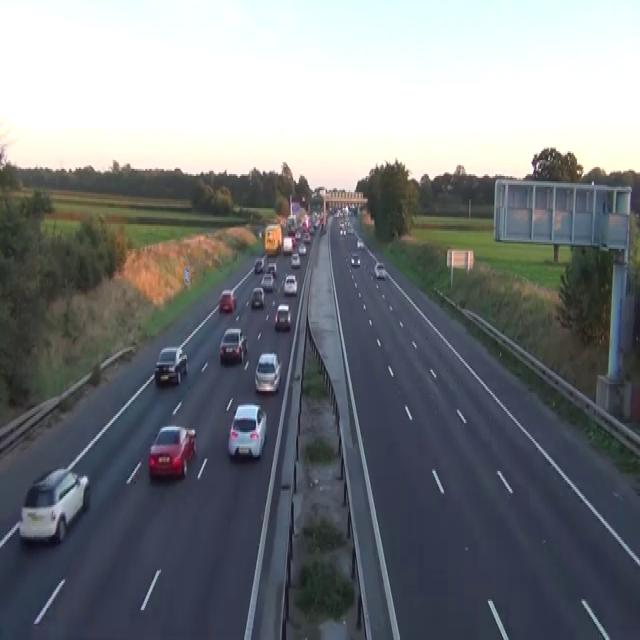Car: (18, 466, 90, 544), (148, 425, 196, 478), (227, 404, 267, 458), (154, 345, 187, 386), (254, 352, 281, 393), (219, 327, 247, 363), (274, 304, 291, 331), (218, 290, 236, 311), (283, 274, 297, 295), (251, 286, 264, 308), (260, 272, 274, 292), (374, 260, 385, 278), (282, 237, 292, 254), (290, 250, 300, 266), (267, 262, 277, 278), (254, 258, 263, 274), (350, 252, 360, 266), (298, 242, 306, 254), (356, 238, 364, 249), (302, 231, 310, 242), (319, 224, 326, 235), (346, 222, 353, 233), (294, 229, 301, 240), (339, 226, 346, 234), (291, 235, 296, 245), (308, 226, 314, 234)
Truck: (264, 222, 281, 254)
